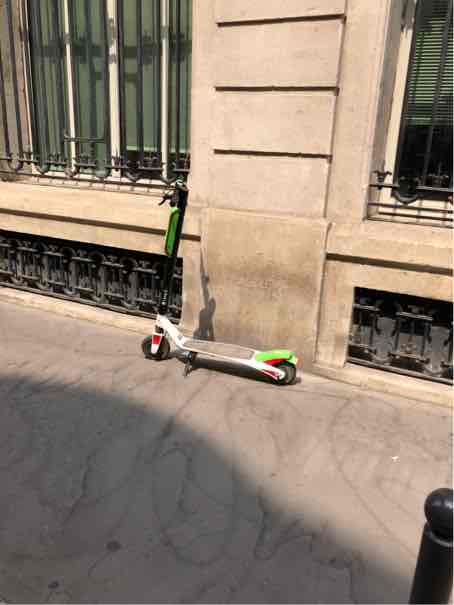scooter: (134, 169, 307, 393)
